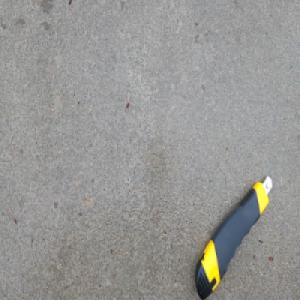Cutter: (193, 171, 273, 297)
